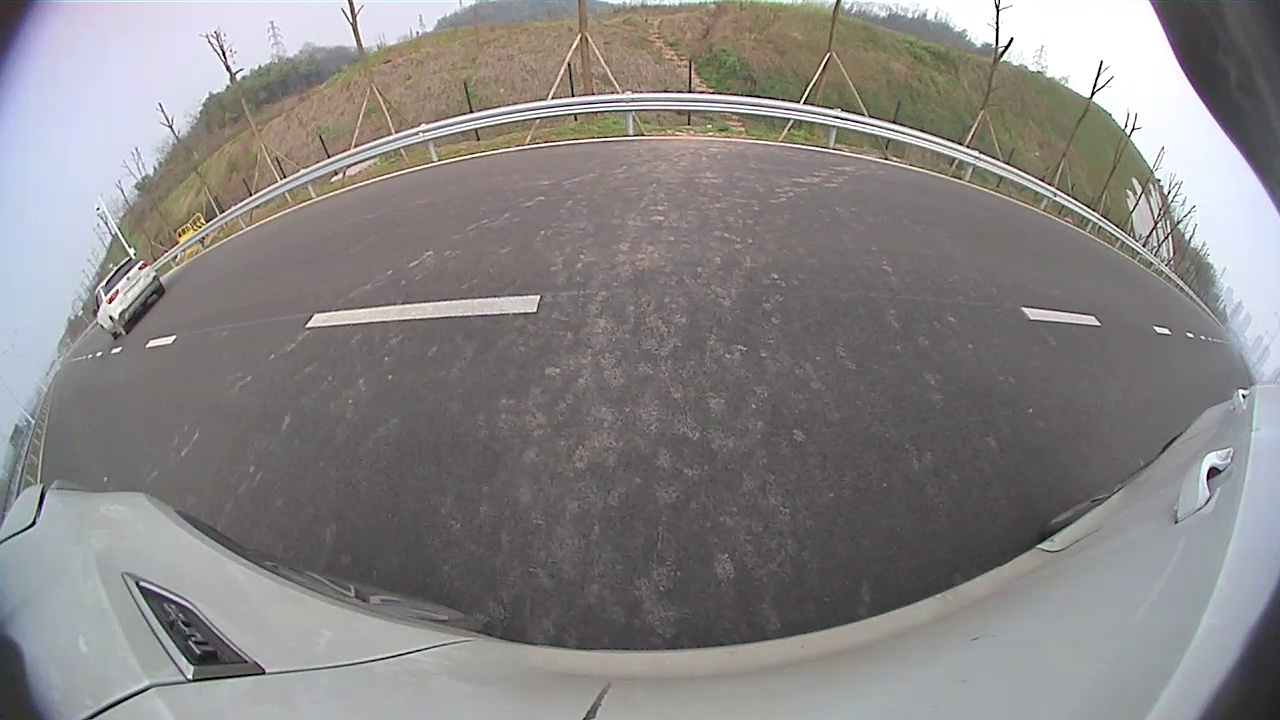car: (566, 4, 942, 240)
front: (888, 187, 930, 239)
rear: (677, 151, 761, 239)
